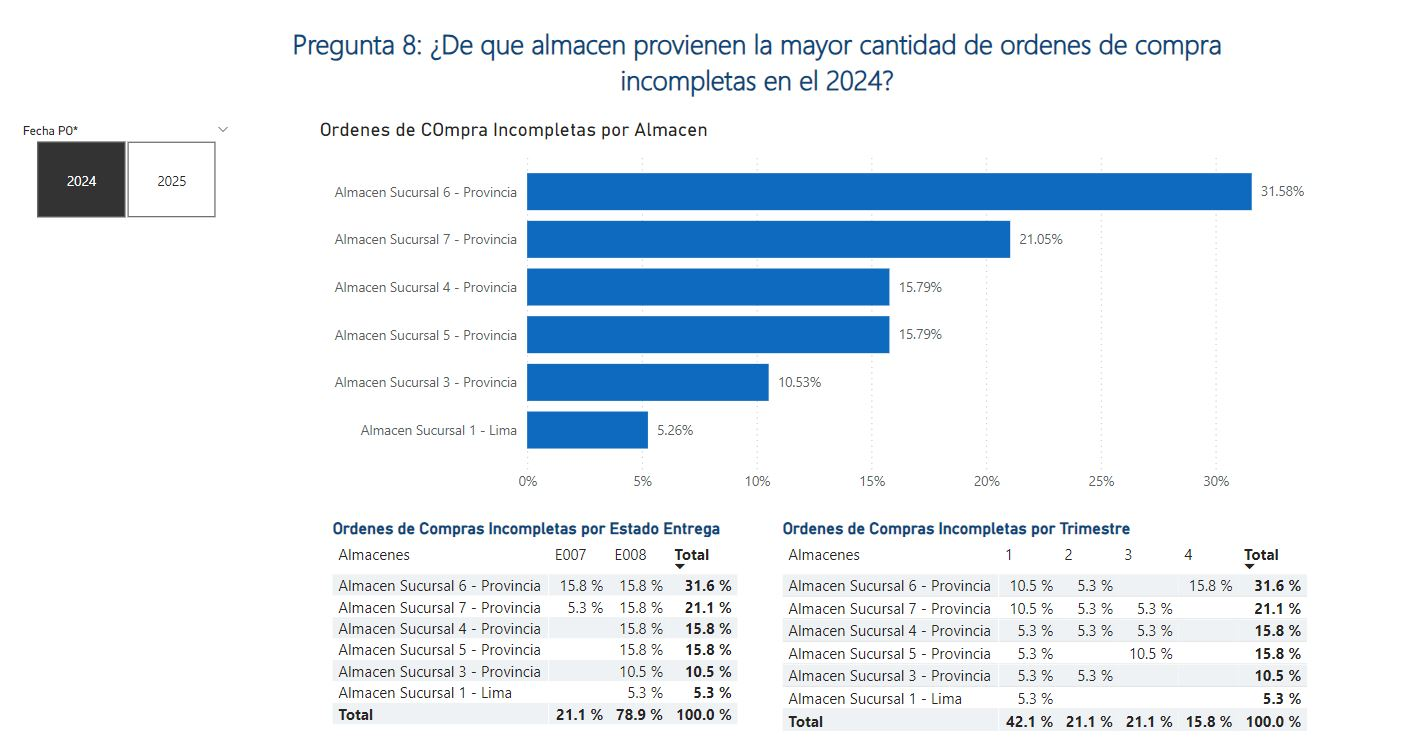

The page's visual inventory and layout, read from the dashboard file:
{"tool":"powerbi","page":{"name":"PREGUNTA 8","canvas":[1280,720],"ordinal":11},"visuals":[{"type":"pageNavigator","box":[311.1,0,968.9,49.7],"z":0},{"type":"textbox","box":[231.4,71.4,910,88.6],"z":1000},{"type":"barChart","title":"Ordenes de COmpra Incompletas por Almacen","fields":{"Category":["Orden_Compra_Detalle.Almacen_Nombre*"],"Y":["Divide(CountNonNull(Orden_Compra_Detalle.Ordenes de Compra_ID), ScopedEval(CountNonNull(Orden_Compra_Detalle.Ordenes de "]},"box":[293.8,160,896.2,340],"z":2000},{"type":"slicer","fields":{"Values":["Orden_Compra_Detalle.Fecha PO*"]},"box":[22.6,159.9,208.3,95.3],"z":3000},{"type":"pivotTable","title":"Ordenes de Compras Incompletas por Trimestre","fields":{"Rows":["Orden_Compra_Detalle.Almacen_Nombre*"],"Values":["Divide(CountNonNull(Orden_Compra_Detalle.Ordenes de Compra_ID), ScopedEval(CountNonNull(Orden_Compra_Detalle.Ordenes de "],"Columns":["Orden_Compra_Detalle.Quarter PO*"]},"box":[703.8,515,486.2,195],"z":4000},{"type":"pivotTable","title":"Ordenes de Compras Incompletas por Estado Entrega","fields":{"Rows":["Orden_Compra_Detalle.Almacen_Nombre*"],"Values":["Divide(CountNonNull(Orden_Compra_Detalle.Ordenes de Compra_ID), ScopedEval(CountNonNull(Orden_Compra_Detalle.Ordenes de "],"Columns":["Orden_Compra_Detalle.Estado de Entrega_ID*"]},"box":[305,515,381.2,195],"z":5000}]}

Visuals, with their boxes on the page's 1280x720 design canvas (x1, y1, x2, y2). These are canvas units, not pixel positions in the 1415x747 screenshot, which may show the page scaled, cropped or inside an application window:
pageNavigator: [x1=311, y1=0, x2=1280, y2=50]
textbox: [x1=231, y1=71, x2=1141, y2=160]
"Ordenes de COmpra Incompletas por Almacen" barChart: [x1=294, y1=160, x2=1190, y2=500]
slicer - Orden_Compra_Detalle.Fecha PO*: [x1=23, y1=160, x2=231, y2=255]
"Ordenes de Compras Incompletas por Trimestre" pivotTable: [x1=704, y1=515, x2=1190, y2=710]
"Ordenes de Compras Incompletas por Estado Entrega" pivotTable: [x1=305, y1=515, x2=686, y2=710]
